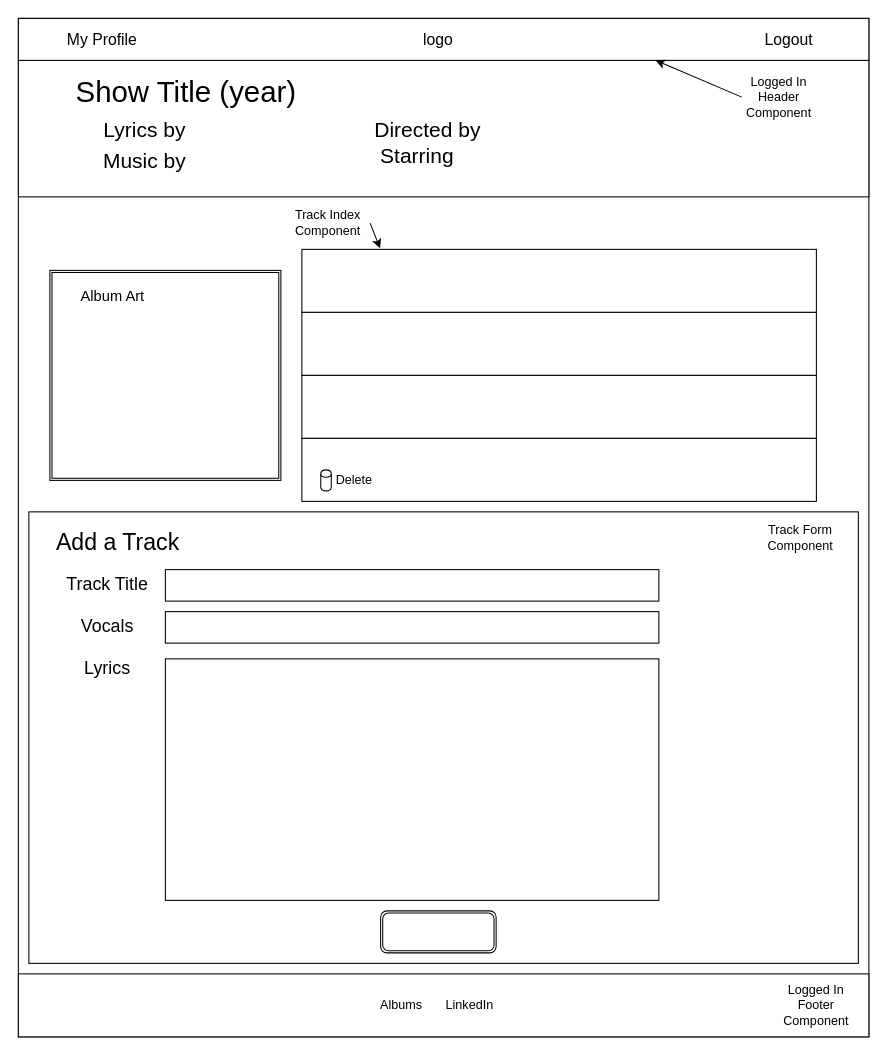
The diagram is 887 pixels wide and 1055 high, and some of its shapes have lost their labels. Each missing label, with the box of its shape:
Add Track: (380, 910, 496, 953)
Track Item Component: (301, 248, 816, 312)
